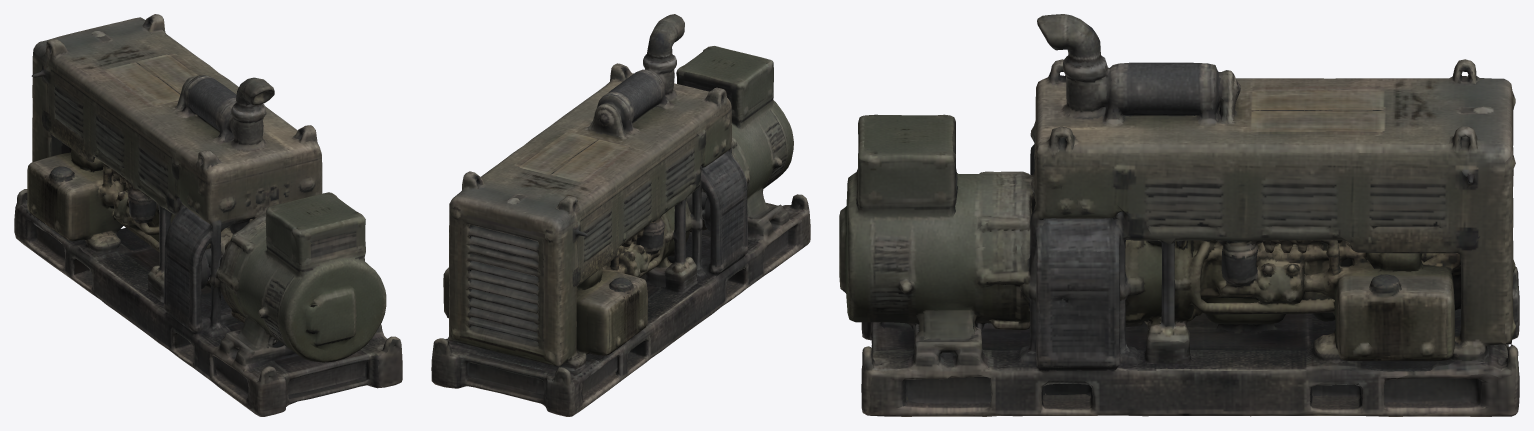
File: raw.glb
3 renders of one model, left to right at view 1: azimuth 30°, elevation 25°; view 2: azimuth 150°, elevation 25°; view 3: azimuth 270°, elevation 25°, orthographic. The views are drawn at different scales.
Bounding box in the file's own units: 0.4035 × 0.583 × 1.01.
1 material, 1 textured.
